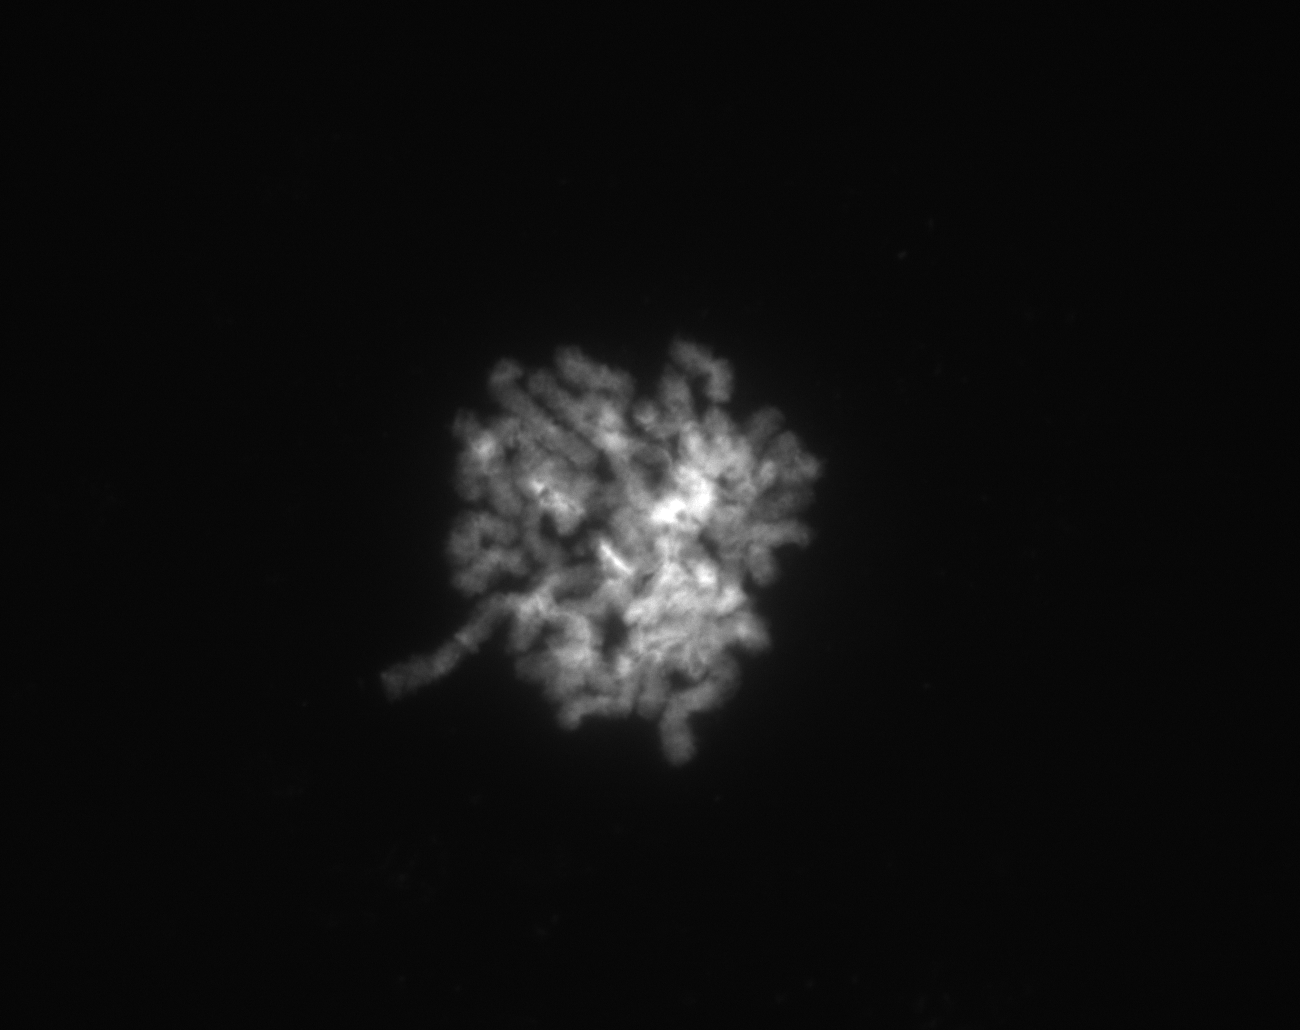Chromosomes: (366, 281, 860, 803)
